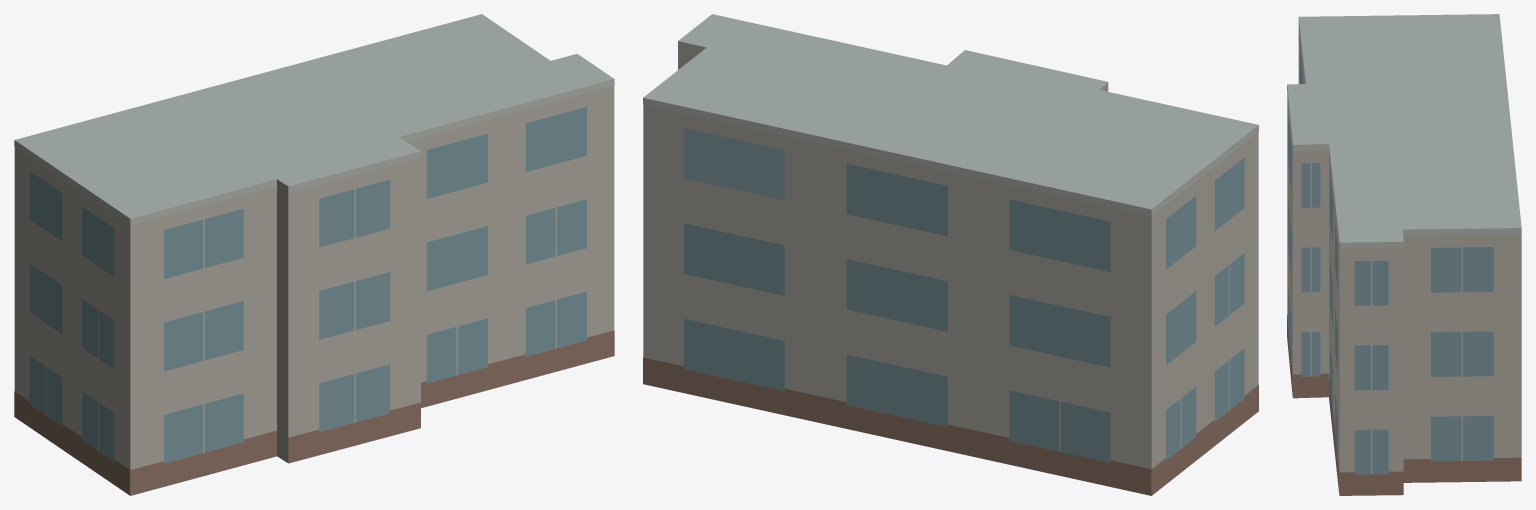
File: survey-upis-32917736.glb
3 renders of one model, left to right at view 1: azimuth 30°, elevation 25°; view 2: azimuth 150°, elevation 25°; view 3: azimuth 270°, elevation 25°, orthographic. The views are drawn at different scales.
Visible parts, largest first — view 1: survey-upis-32917736.tmp; view 2: survey-upis-32917736.tmp; view 3: survey-upis-32917736.tmp.
Part boxes in pixels (<box>): survey-upis-32917736.tmp: <box>14,14,614,495</box>; survey-upis-32917736.tmp: <box>643,14,1258,495</box>; survey-upis-32917736.tmp: <box>1287,14,1521,495</box>.
Size of the model in its own units: 19.76 by 10.2 by 8.57.
